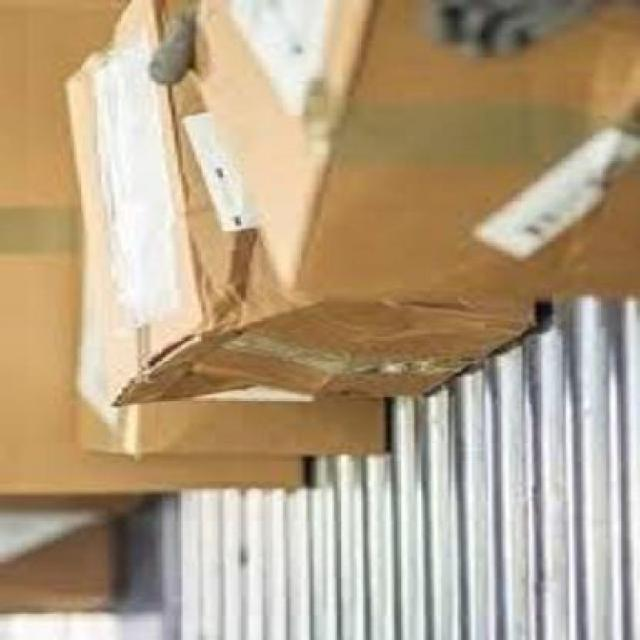defect: (86, 2, 488, 416)
